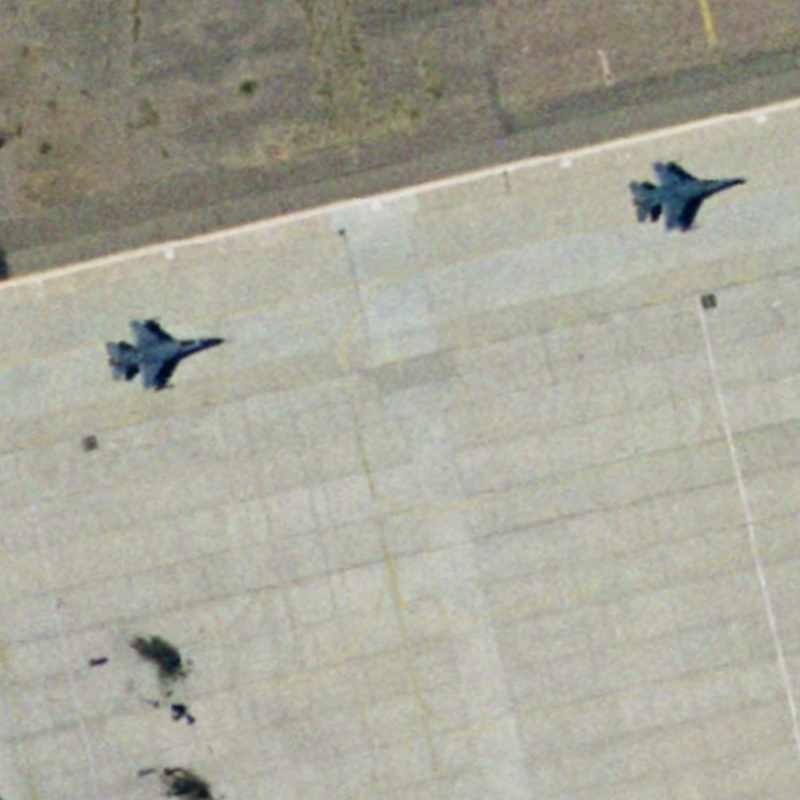A5: (623, 150, 749, 241), (99, 309, 226, 397)
